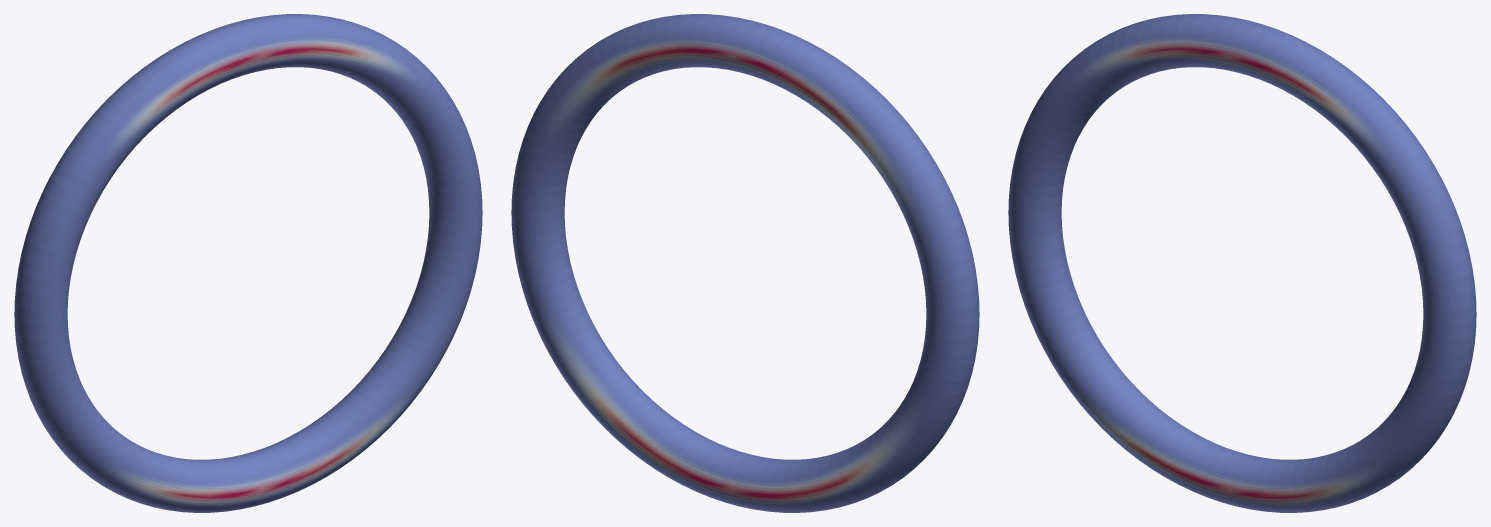
3 renders of one model, left to right at view 1: azimuth 30°, elevation 25°; view 2: azimuth 150°, elevation 25°; view 3: azimuth 330°, elevation 25°, orthographic.
Visible parts, largest first — view 1: world; view 2: world; view 3: world.
Part boxes in pixels (<box>): world: <box>14,14,482,512</box>; world: <box>511,14,979,512</box>; world: <box>1008,14,1476,512</box>.
Size of the model in its own units: 20 by 20 by 2.
